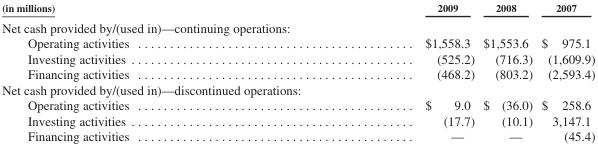table: (1, 1, 594, 143)
table column: (1, 1, 276, 143), (276, 1, 478, 143), (478, 1, 536, 143), (536, 1, 594, 143)
table column header: (1, 1, 594, 16)
table projected row header: (1, 16, 594, 35), (1, 81, 594, 97)
table row: (1, 16, 594, 35), (1, 50, 594, 66), (1, 81, 594, 97), (1, 112, 594, 128), (1, 1, 594, 16), (1, 35, 594, 50), (1, 66, 594, 81), (1, 97, 594, 112), (1, 128, 594, 143)
